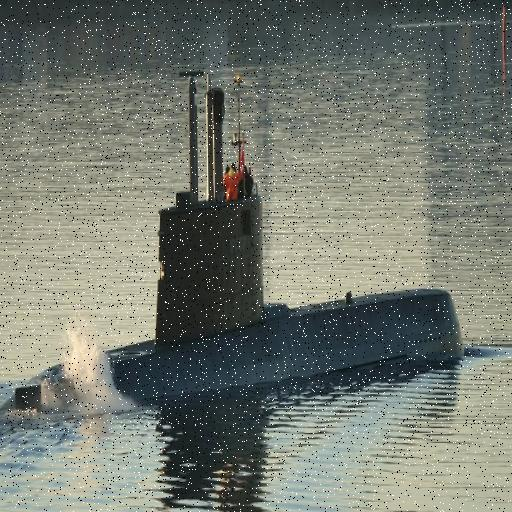submarine: (1, 30, 489, 438)
